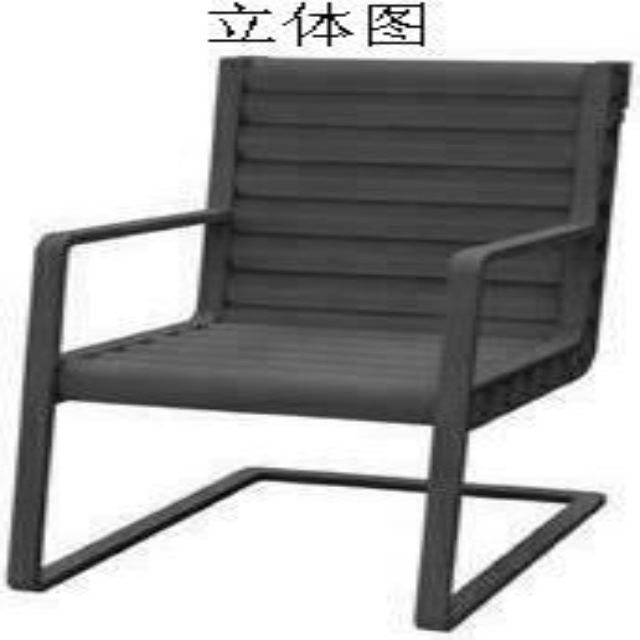obstacle: (7, 56, 625, 628)
